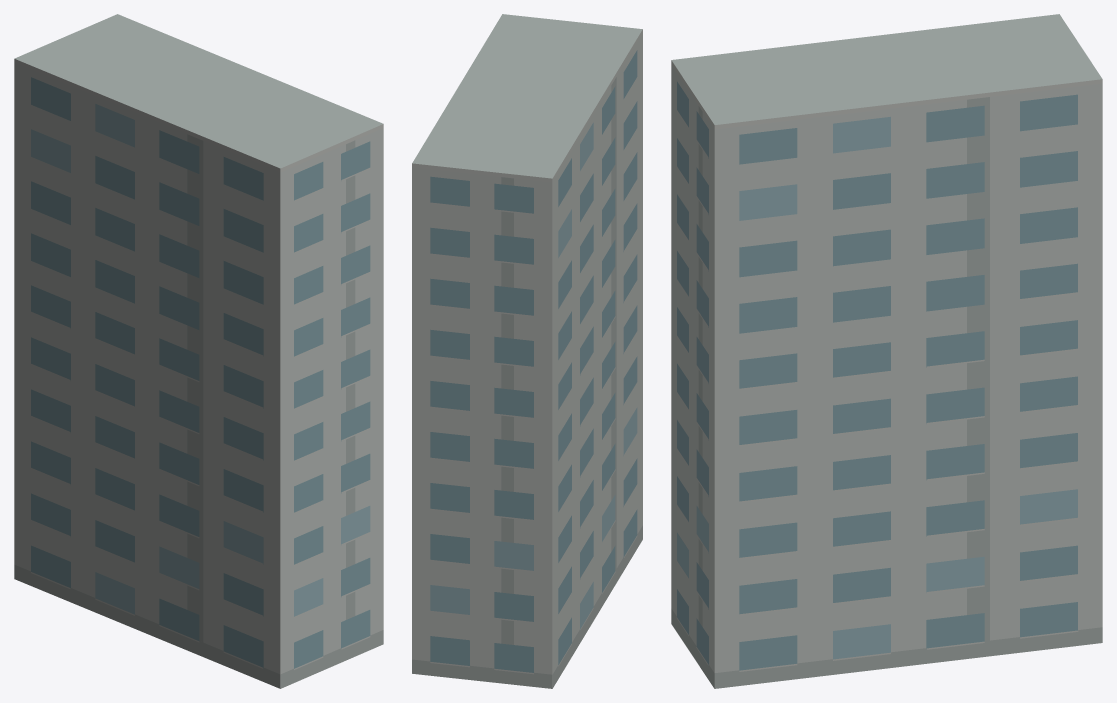
File: residential-66f43f0f-8571-4e66-9465-d9629ffc70d3.glb
3 views of the same model, side by side, from view 1: azimuth 30°, elevation 25°; view 2: azimuth 150°, elevation 25°; view 3: azimuth 270°, elevation 25° (orthographic). The views are drawn at different scales.
Visible parts, largest first — view 1: residential-66f43f0f-8571-4e66-9465-d9629ffc70d3.tmp; view 2: residential-66f43f0f-8571-4e66-9465-d9629ffc70d3.tmp; view 3: residential-66f43f0f-8571-4e66-9465-d9629ffc70d3.tmp.
Boxes of the visible parts, x1,y1,x2,y2 form: residential-66f43f0f-8571-4e66-9465-d9629ffc70d3.tmp: (14, 14, 383, 688); residential-66f43f0f-8571-4e66-9465-d9629ffc70d3.tmp: (412, 14, 642, 688); residential-66f43f0f-8571-4e66-9465-d9629ffc70d3.tmp: (671, 14, 1102, 688).
Bounding box in the file's own units: 13.12 × 31 × 21.51.
